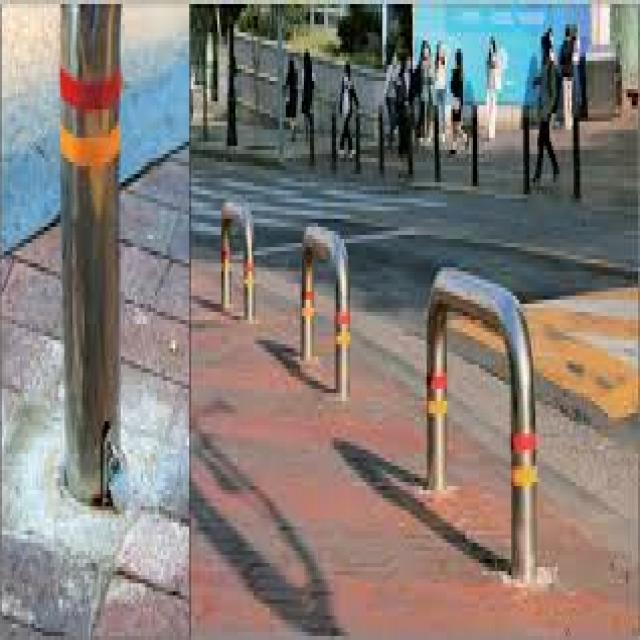bollard: (422, 258, 550, 590), (54, 0, 132, 507), (297, 218, 356, 398), (218, 188, 254, 328)
